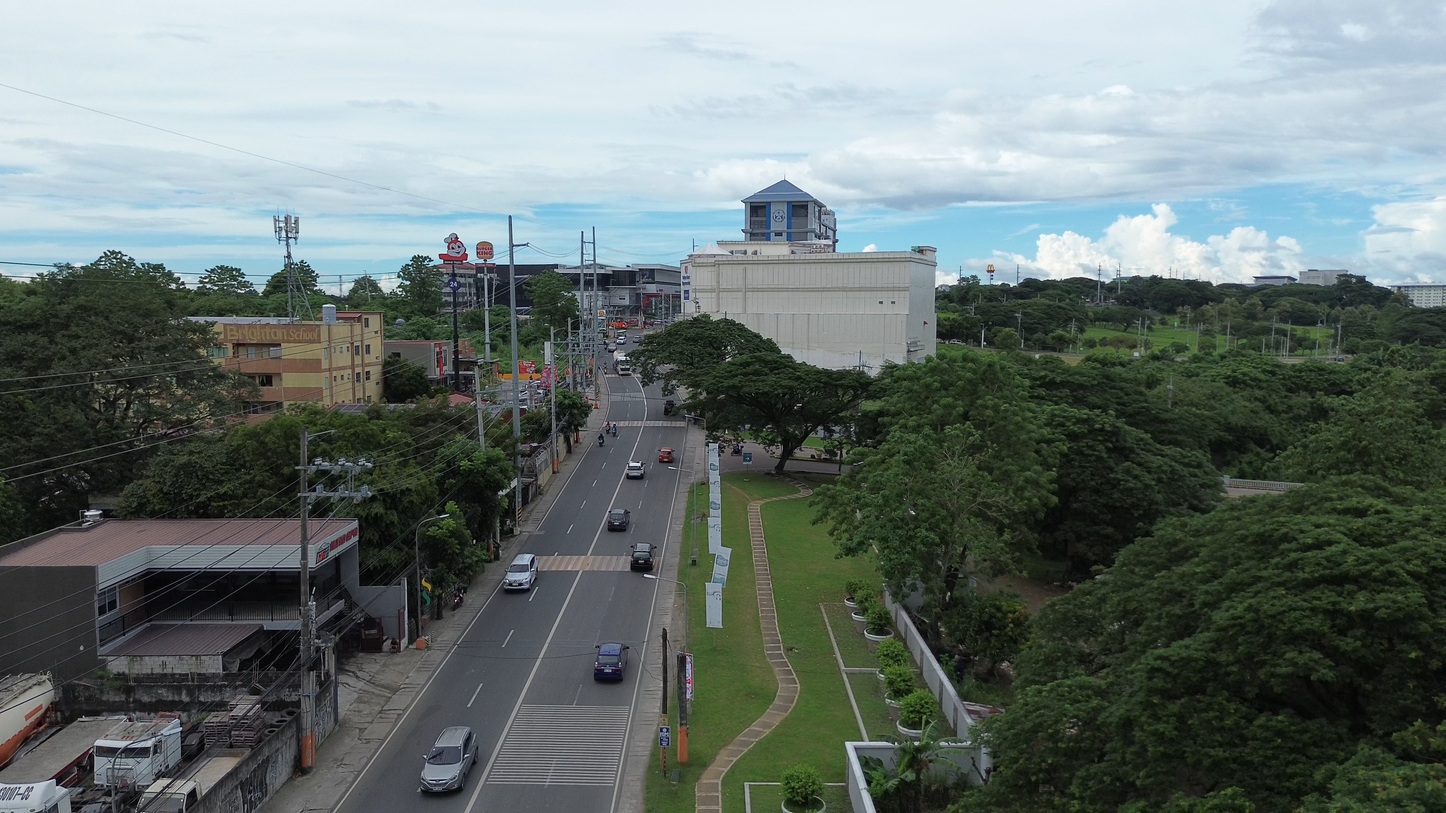car: (421, 726, 477, 791), (594, 643, 630, 681), (630, 543, 654, 571), (606, 509, 630, 531), (625, 461, 645, 479), (658, 447, 674, 463), (606, 343, 616, 352)
motorcycle: (598, 433, 604, 446)
truck: (93, 713, 181, 788), (0, 781, 70, 813)
vehicle: (0, 673, 55, 766), (136, 778, 200, 813), (503, 553, 538, 590), (663, 399, 676, 415), (617, 361, 631, 375), (615, 334, 628, 346), (606, 342, 616, 352)
